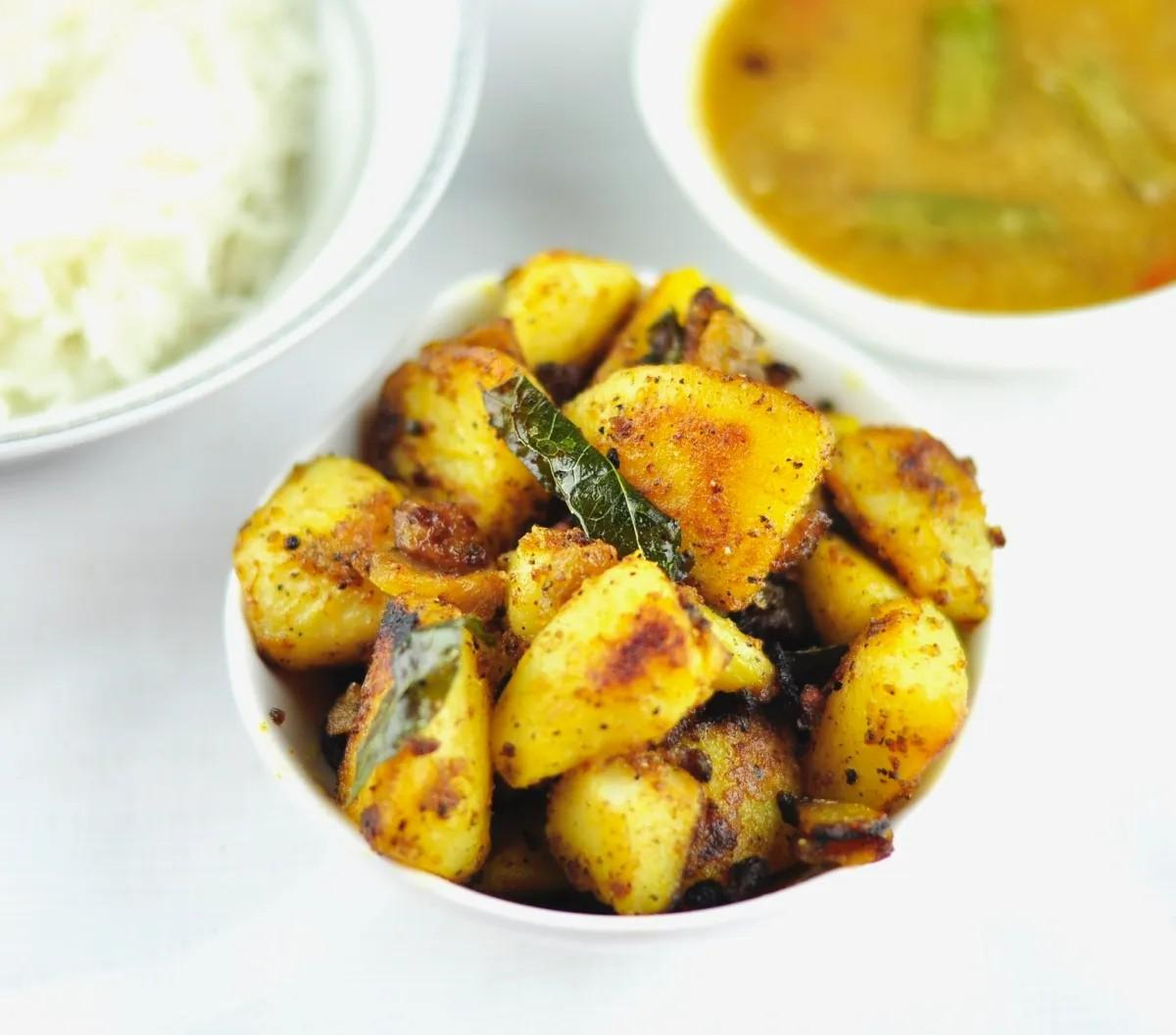AlooMasala: (230, 254, 987, 919)
WhiteRice: (0, 0, 327, 422)
